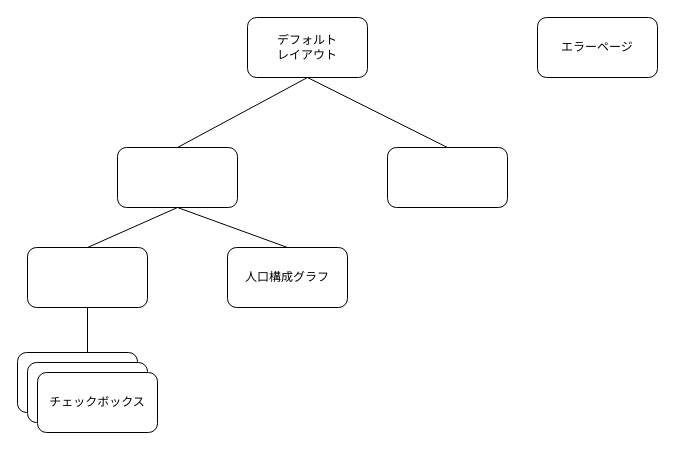
Some shapes in this 675 by 450 pixel diagram are drawn without their labels. The box of each missing label's shape, as (x1, y1, x2, y2) in pixels:
トップページ: (116, 146, 238, 208)
ヘッダー: (386, 146, 508, 208)
都道府県リスト: (26, 246, 148, 308)
